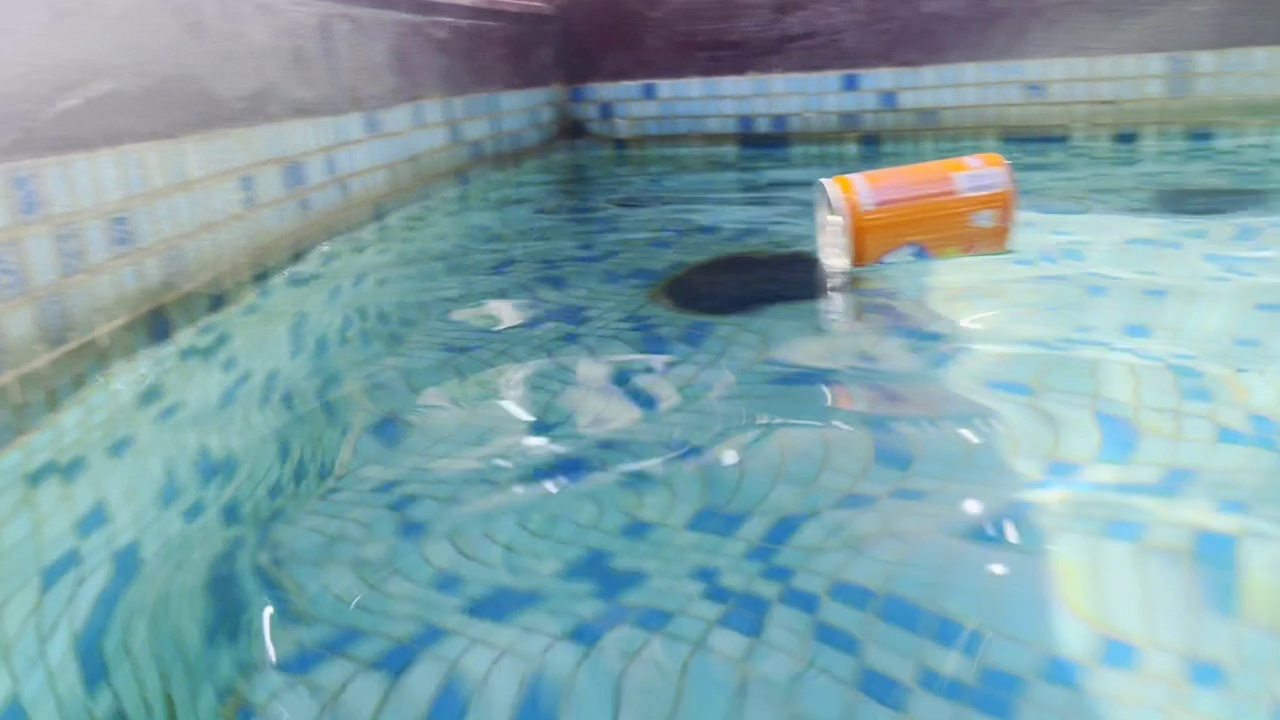debris: (801, 145, 1022, 277)
